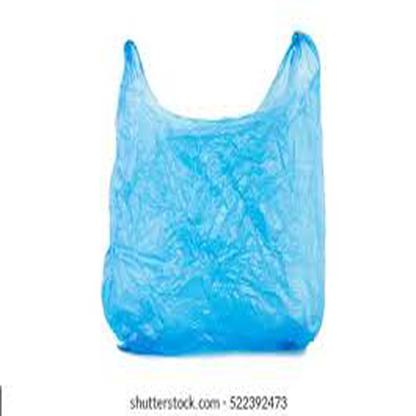plastic bag: (102, 31, 323, 354)
